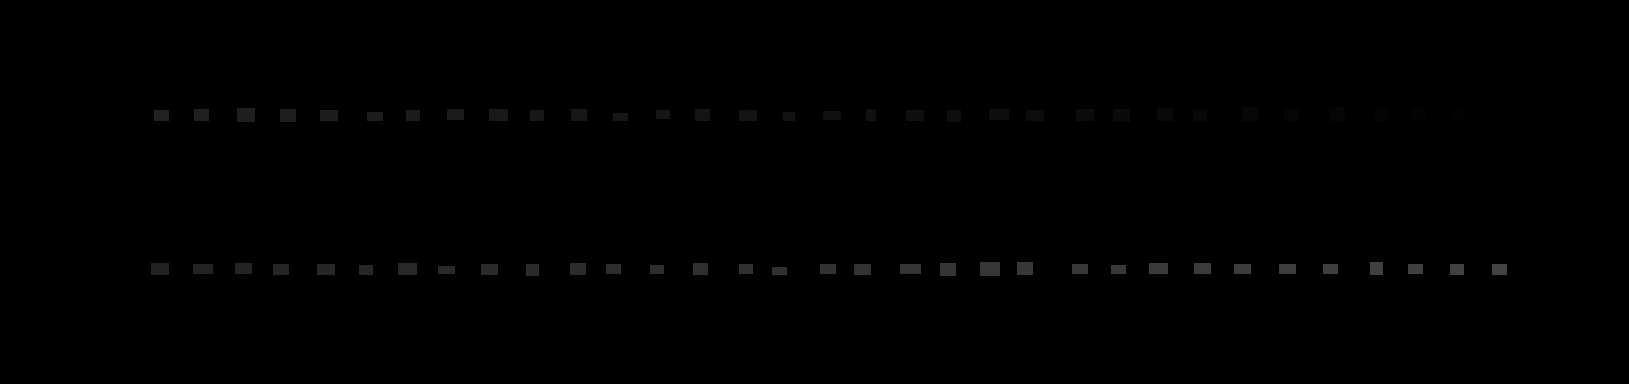light: (980, 262, 1000, 276), (237, 108, 255, 122), (1329, 107, 1345, 121), (1241, 107, 1258, 121), (1113, 109, 1130, 122), (489, 109, 508, 121), (151, 263, 169, 275), (398, 263, 417, 275), (900, 264, 922, 274), (989, 109, 1009, 120), (1076, 109, 1094, 121), (739, 110, 757, 121), (1149, 263, 1168, 274), (1411, 108, 1426, 121), (1157, 108, 1173, 121), (281, 109, 296, 122), (940, 263, 956, 276), (1017, 262, 1033, 275), (193, 264, 213, 274), (1026, 110, 1044, 121), (906, 110, 924, 121), (447, 109, 464, 120), (320, 110, 338, 121), (235, 263, 252, 274), (317, 264, 335, 275), (1194, 263, 1211, 274), (571, 109, 587, 121), (570, 263, 586, 275), (481, 264, 498, 275), (854, 264, 871, 275), (1284, 109, 1299, 121), (1193, 109, 1207, 121), (695, 109, 710, 121), (194, 109, 209, 121), (693, 263, 707, 275), (154, 110, 169, 121), (273, 264, 289, 275), (1492, 264, 1507, 275), (823, 111, 842, 120), (820, 264, 836, 274), (1234, 264, 1251, 274), (1279, 264, 1296, 274), (1376, 109, 1388, 122), (947, 110, 961, 122), (526, 264, 539, 276), (1370, 262, 1383, 275), (530, 110, 544, 121), (606, 264, 621, 274), (1072, 264, 1088, 274), (1323, 264, 1338, 274), (1408, 264, 1423, 274), (1452, 109, 1465, 121), (367, 112, 383, 121), (1495, 109, 1508, 120), (406, 110, 420, 121), (1450, 264, 1464, 275), (739, 264, 753, 274), (1111, 265, 1126, 274), (359, 265, 373, 275), (438, 266, 455, 274), (656, 110, 670, 119), (772, 267, 787, 275), (650, 265, 664, 274), (613, 113, 627, 121), (866, 109, 876, 121), (783, 112, 795, 121)
